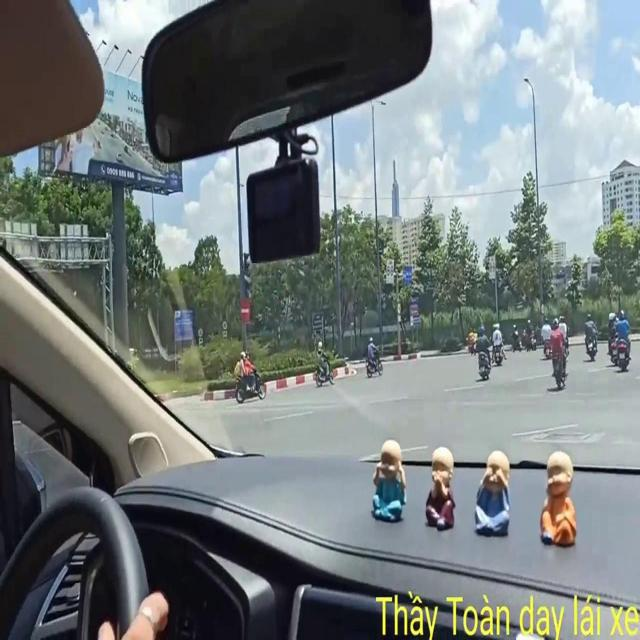Cấm các phương tiện hoạt động trong khung giờ cố định: (383, 255, 394, 284), (488, 254, 496, 278)
Cấm đi ngược chiều: (234, 295, 252, 321)
Khác: (173, 305, 196, 340), (306, 307, 325, 333), (409, 297, 420, 326)
Làn đường cho từng xe: (397, 262, 413, 286)
